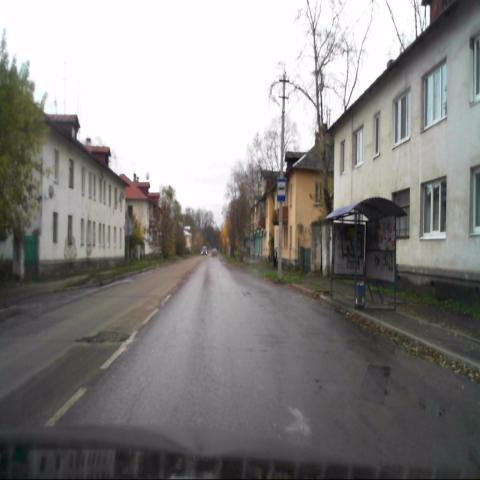5_16: (276, 177, 286, 202)
